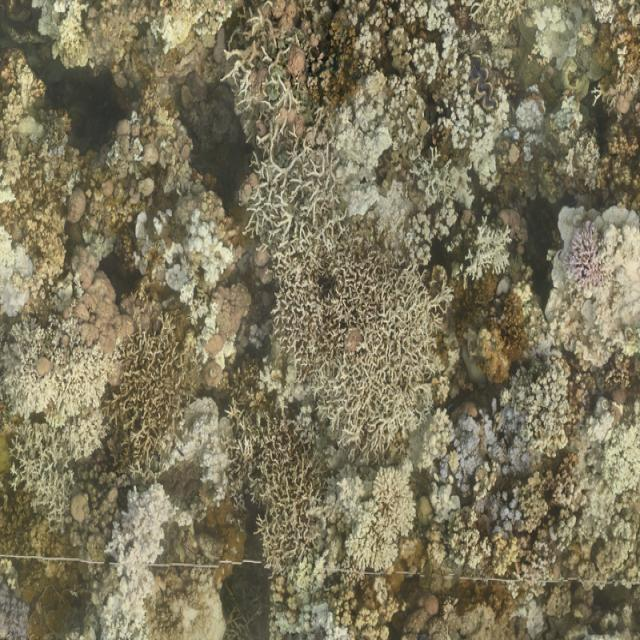Bleached Coral: (338, 77, 438, 251), (0, 320, 104, 444), (334, 460, 415, 572), (110, 480, 164, 640), (167, 393, 237, 499), (448, 410, 544, 482), (594, 206, 640, 354), (596, 400, 640, 516), (180, 210, 237, 282), (0, 220, 30, 308), (486, 492, 532, 542), (507, 100, 551, 150)
